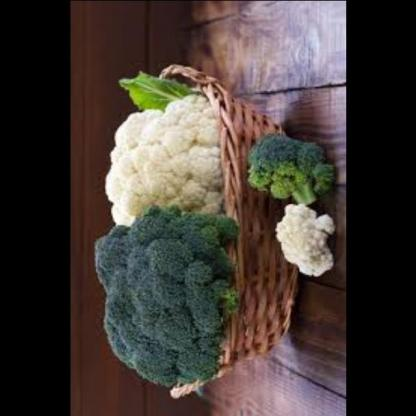broccoli: (90, 211, 248, 395), (239, 127, 344, 208)
cayliflower: (98, 90, 235, 224), (274, 202, 346, 280)
